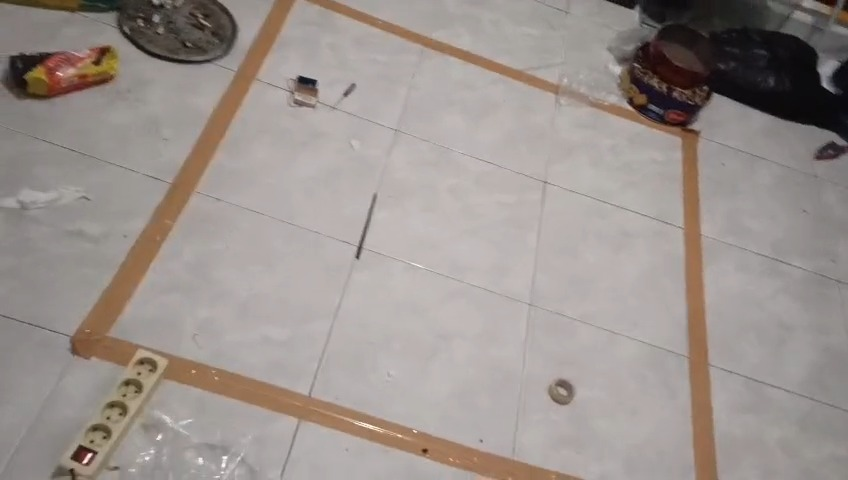floor marking: (71, 0, 294, 364), (569, 91, 717, 479), (158, 352, 578, 479), (305, 0, 558, 97)
